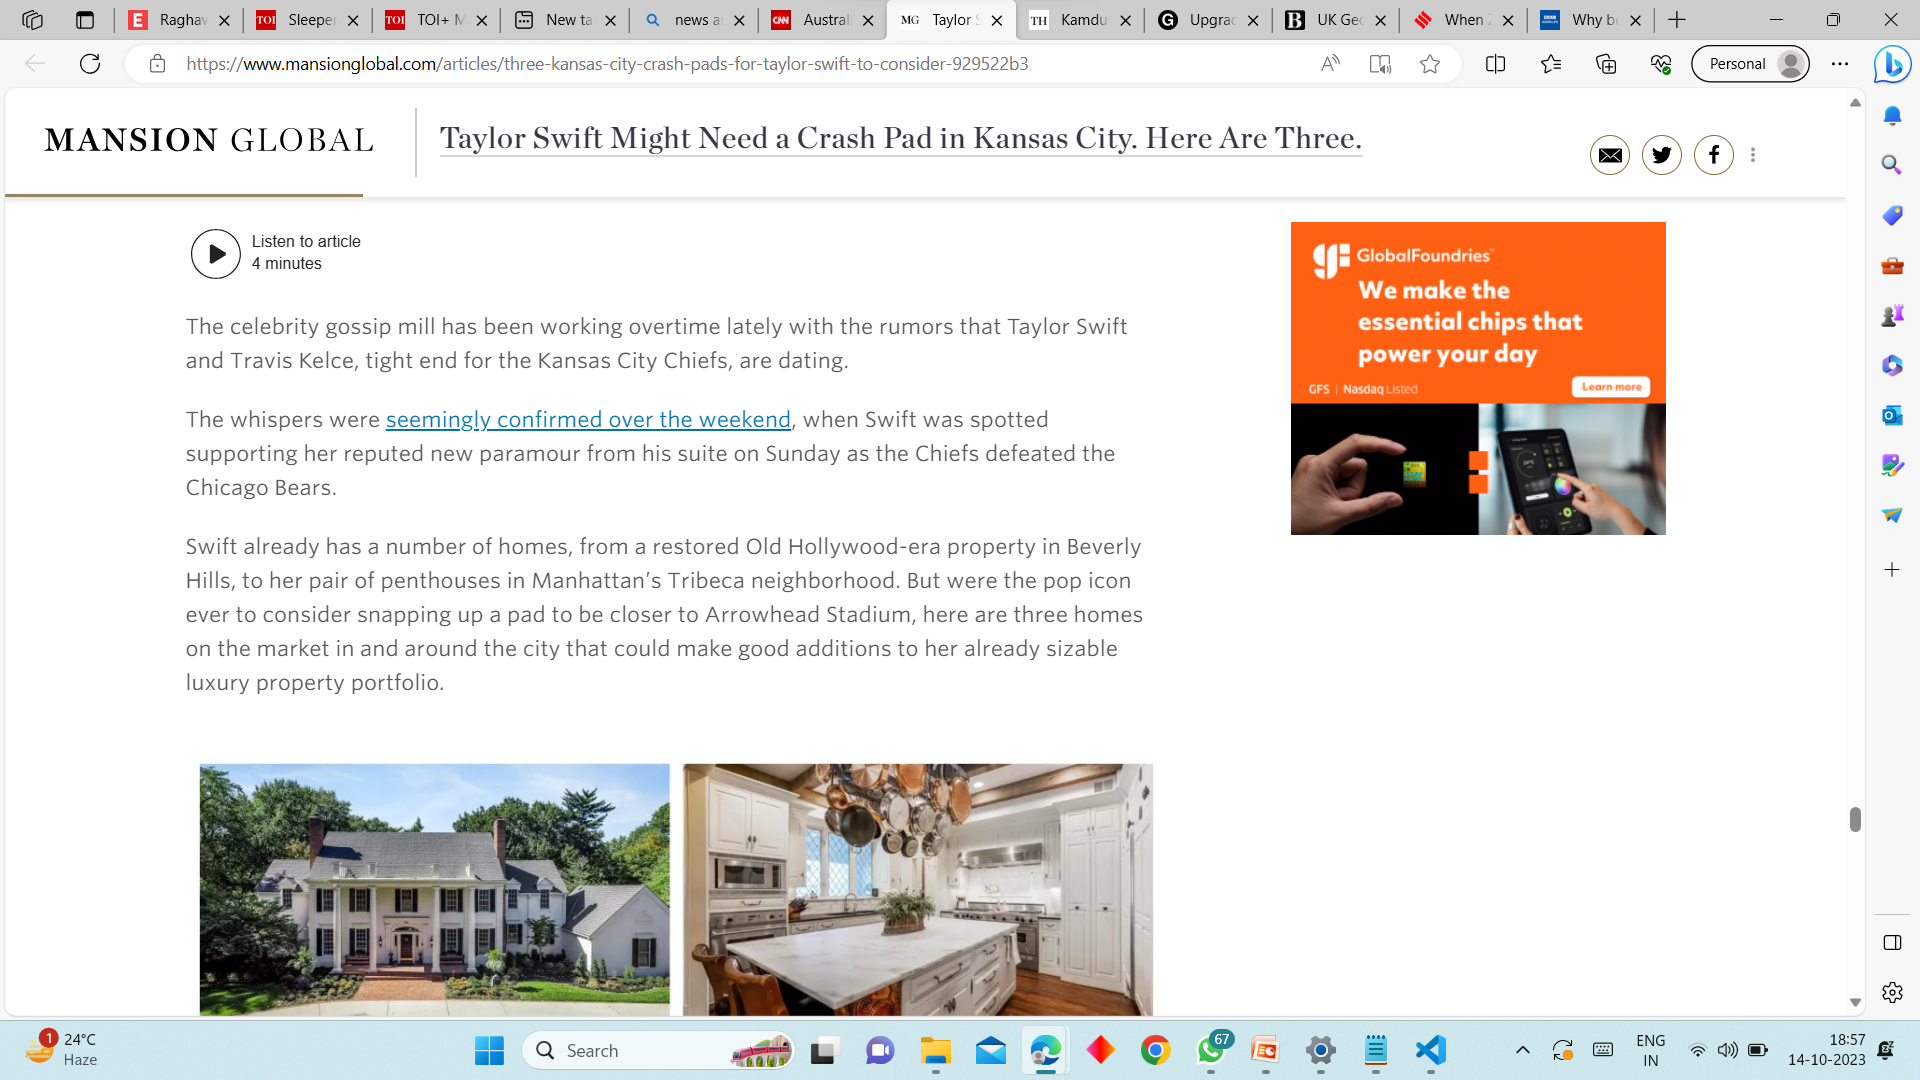Image: (195, 761, 671, 1010), (691, 765, 1167, 1010), (1291, 228, 1667, 527), (174, 224, 247, 282), (1588, 128, 1635, 173), (1688, 128, 1733, 174), (1646, 125, 1679, 173), (1742, 132, 1768, 181)
Paragraph: (161, 537, 1189, 698), (187, 291, 1163, 393), (187, 405, 1118, 495), (414, 116, 1375, 164), (26, 123, 396, 165)
